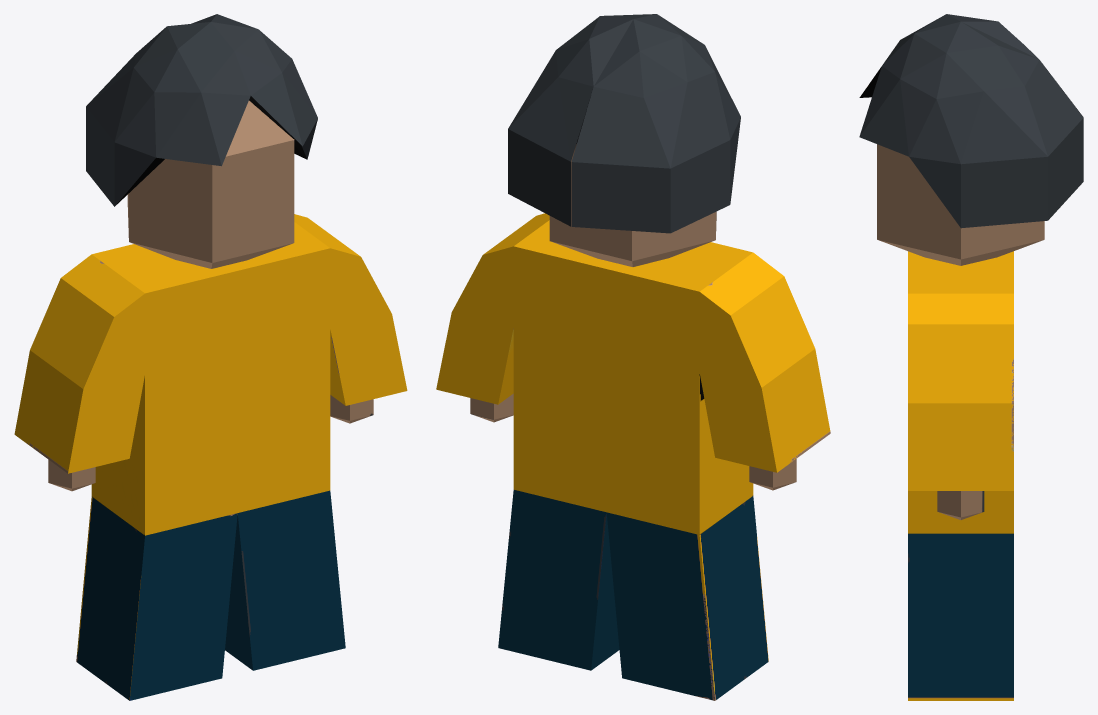
The model's file is person_02.glb.
3 views of the same model, side by side, from view 1: azimuth 30°, elevation 25°; view 2: azimuth 150°, elevation 25°; view 3: azimuth 270°, elevation 25° (orthographic).
Parts seen in each view (by area): view 1: KidB; view 2: KidB; view 3: KidB.
Boxes of the visible parts, box(x1,y1,x2,y2) form: KidB: box(14, 14, 407, 700); KidB: box(436, 14, 830, 700); KidB: box(859, 14, 1083, 700).
Bounding box in the file's own units: 1.32 × 2.35 × 0.7626.
1 material, 1 textured.
